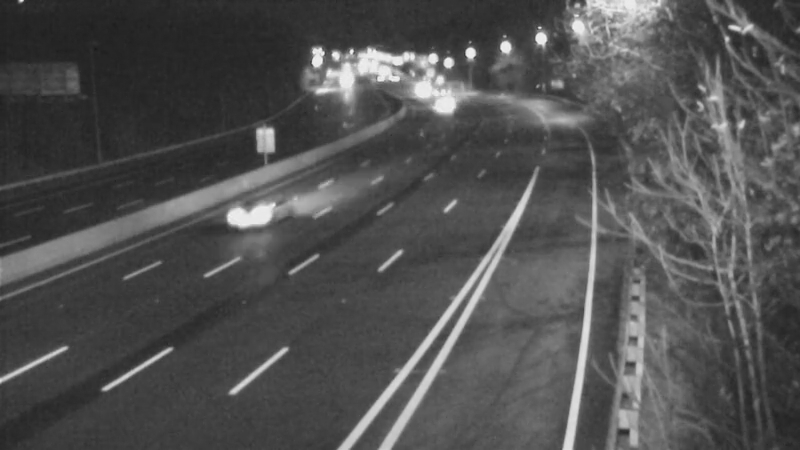vehicle: (216, 171, 296, 251), (394, 61, 444, 111), (424, 64, 474, 114), (418, 81, 468, 131)
